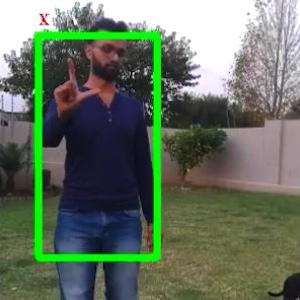land_hand: (44, 46, 102, 117)
